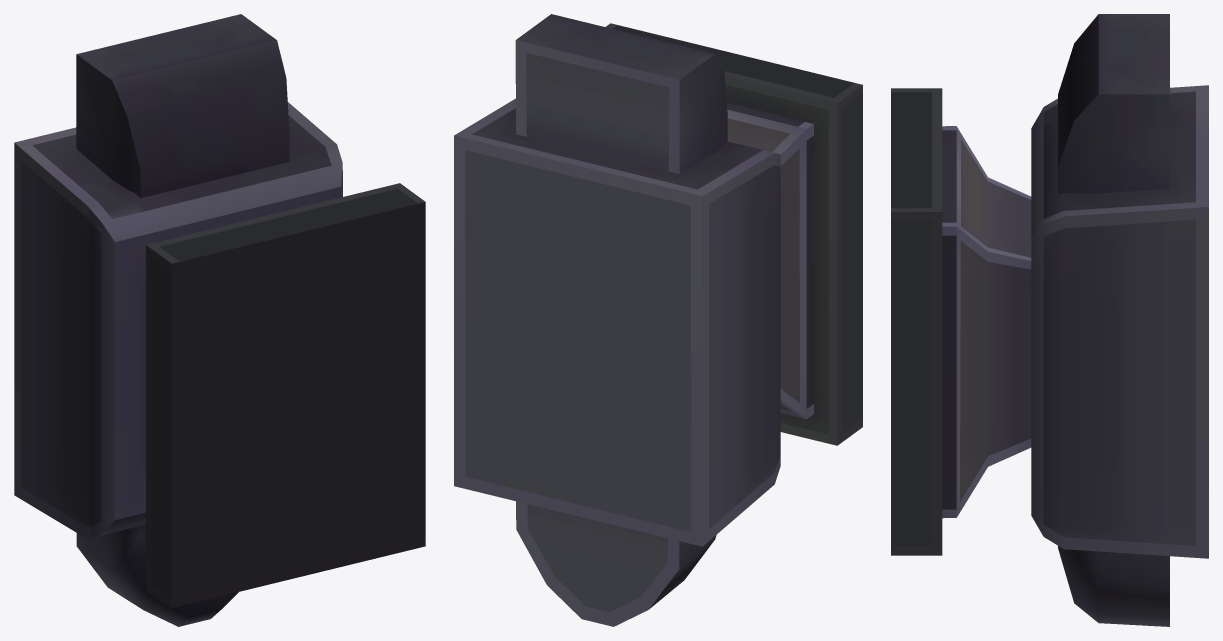
Rendered from Anvil.fbx.
3 renders of one model, left to right at view 1: azimuth 30°, elevation 25°; view 2: azimuth 150°, elevation 25°; view 3: azimuth 270°, elevation 25°, orthographic.
Visible parts, largest first — view 1: Anvil; view 2: Anvil; view 3: Anvil.
Part boxes in pixels (x1,y1,x2,y2): Anvil: [14, 14, 425, 626]; Anvil: [454, 14, 862, 626]; Anvil: [891, 14, 1208, 626].
Size of the model in its own units: 93.73 by 200 by 102.
